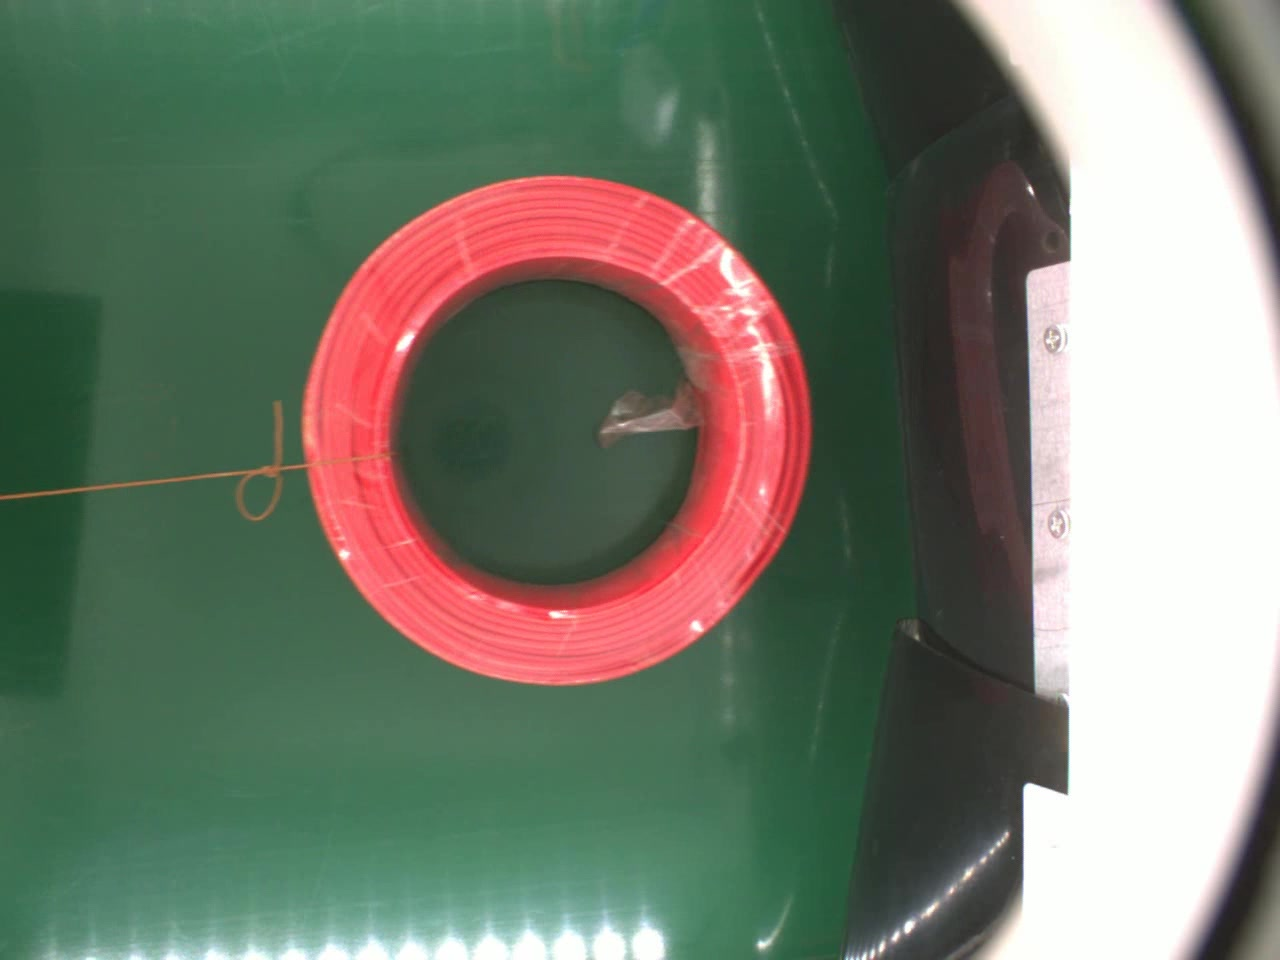red: (295, 169, 813, 684)
